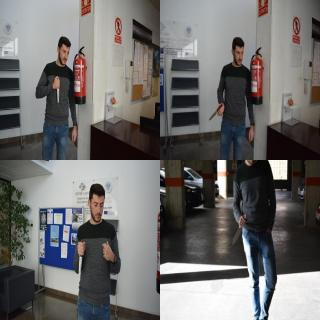knife: (232, 213, 246, 247), (208, 103, 223, 121), (77, 240, 83, 278), (56, 76, 60, 104)
